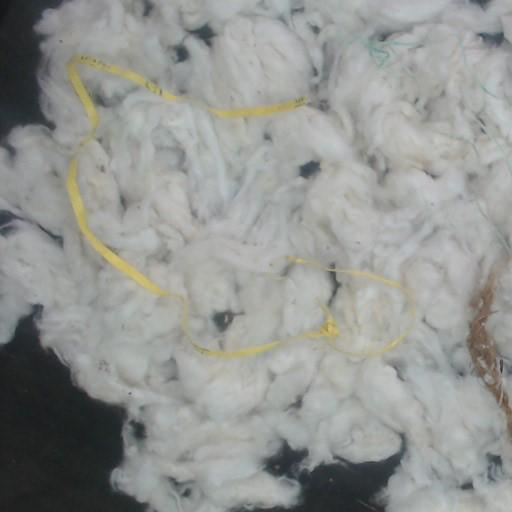cotton: (0, 0, 511, 511)
jute: (468, 265, 511, 443), (284, 189, 288, 201)
thread: (66, 55, 341, 355), (205, 96, 307, 117), (326, 268, 405, 291), (349, 328, 407, 356)
